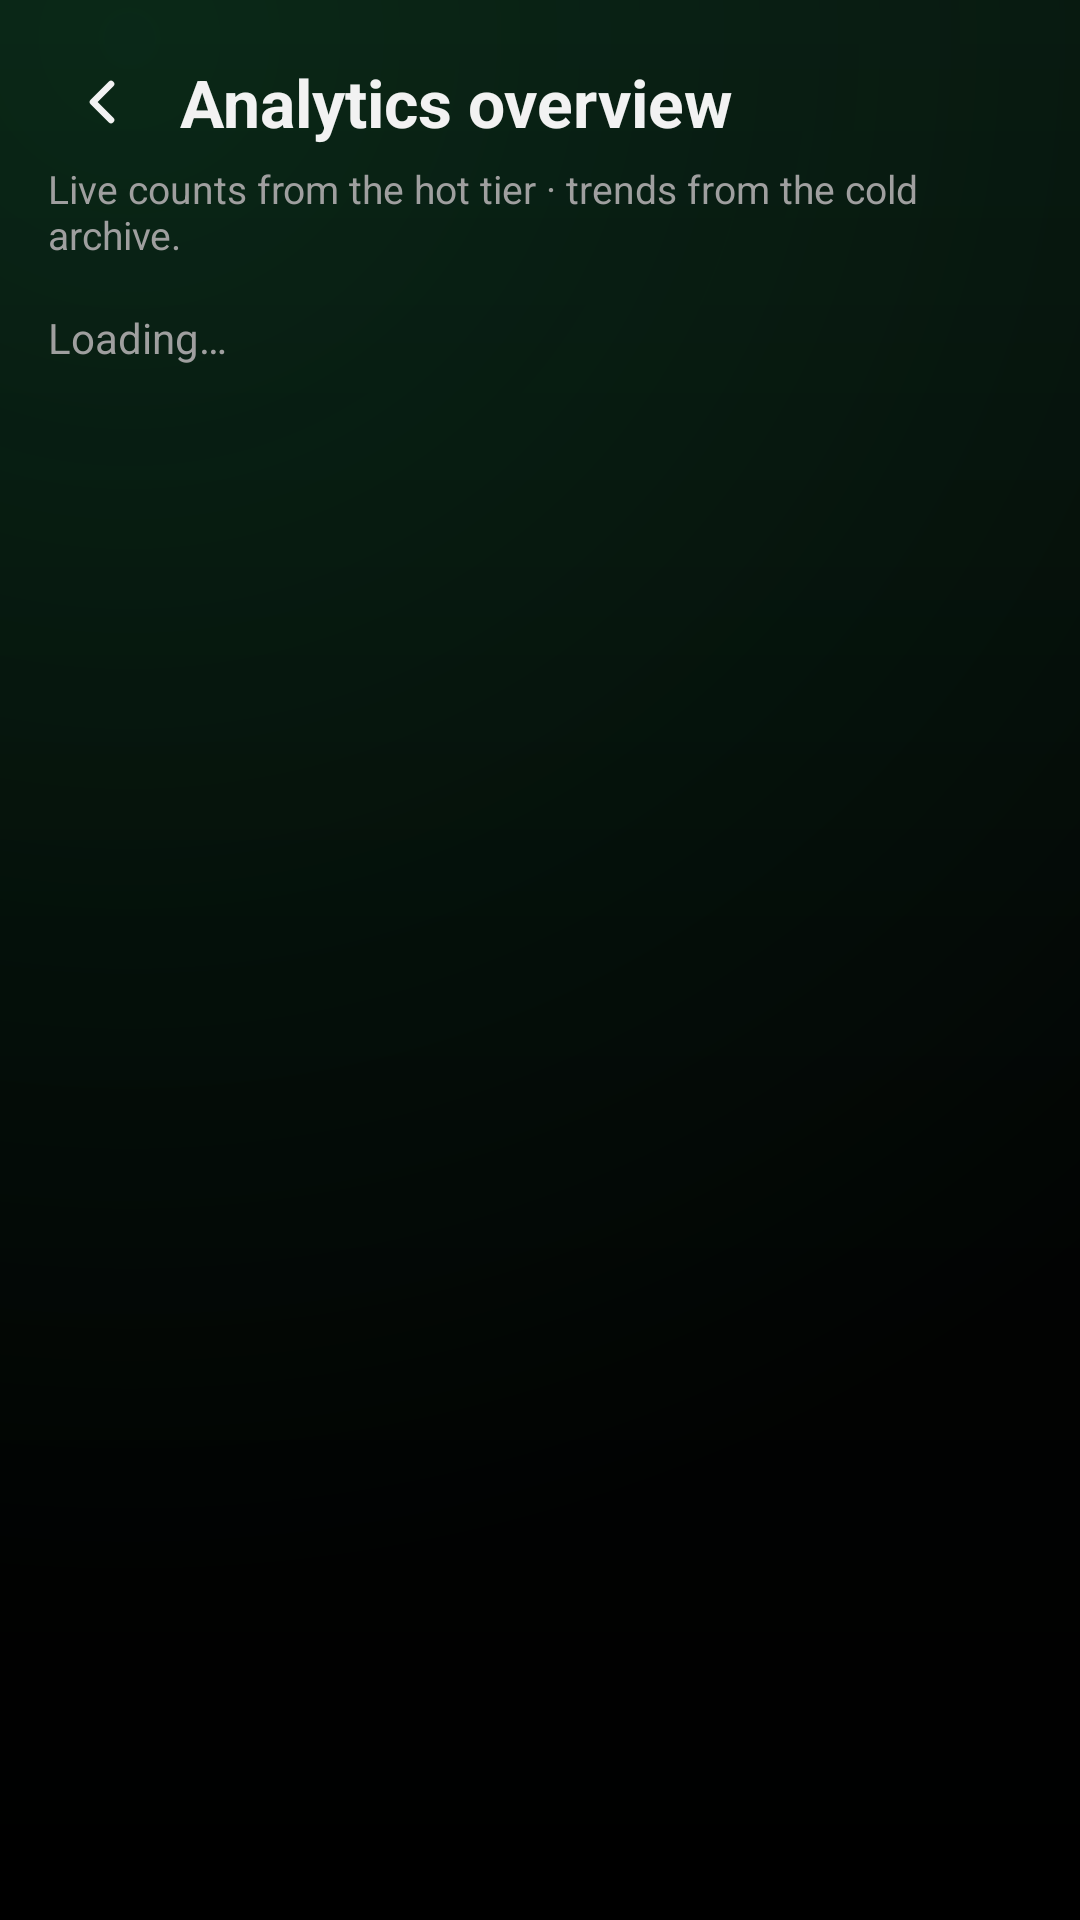

Icons on this 1080px x 1920px Android screen, each with its box as (x1,y1,x2,y2):
Back: (89,80,115,124)
